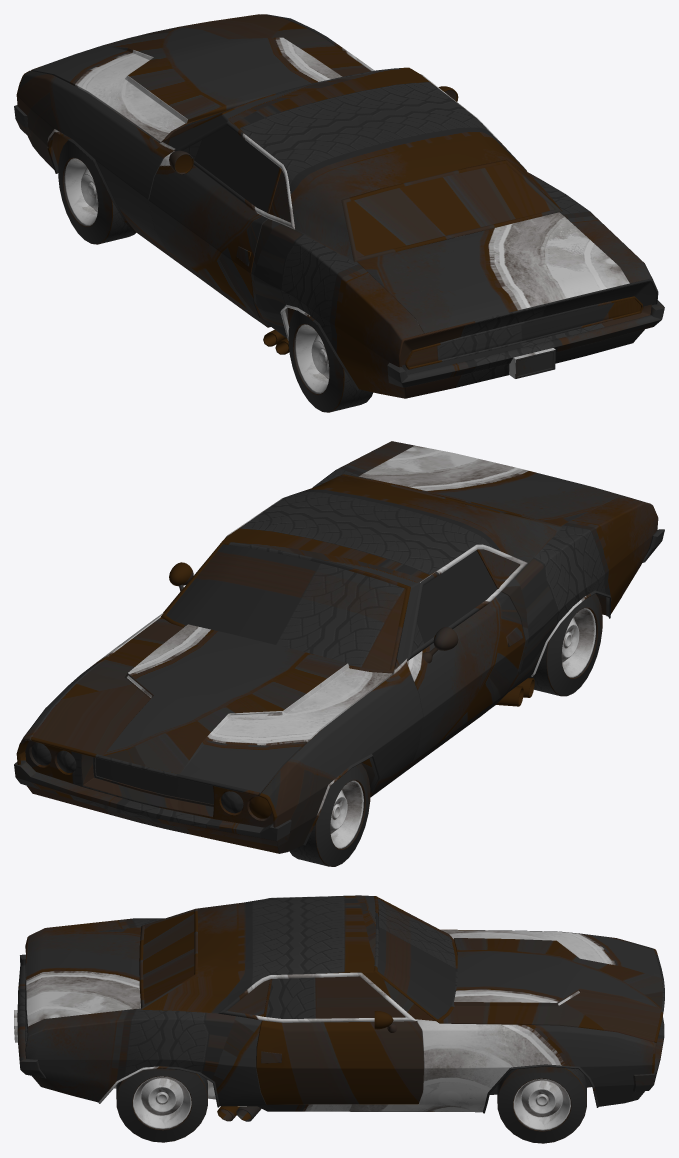
The model's file is Car.fbx.
3 renders of one model, top to bottom at view 1: azimuth 30°, elevation 25°; view 2: azimuth 150°, elevation 25°; view 3: azimuth 270°, elevation 25°, orthographic. The views are drawn at different scales.
Visible parts, largest first — view 1: defaultMaterial.002, defaultMaterial.001, defaultMaterial.006, defaultMaterial.004; view 2: defaultMaterial.002, defaultMaterial.001, defaultMaterial.004, defaultMaterial.006; view 3: defaultMaterial.002, defaultMaterial.001, defaultMaterial.003, defaultMaterial.005.
Boxes of the visible parts, x1,y1,x2,y2 form: defaultMaterial.002: (16,14,658,398); defaultMaterial.001: (14,67,664,387); defaultMaterial.006: (288,310,373,412); defaultMaterial.004: (58,140,135,244); defaultMaterial.002: (16,441,658,853); defaultMaterial.001: (14,474,664,846); defaultMaterial.004: (289,763,370,866); defaultMaterial.006: (529,593,602,696); defaultMaterial.002: (25,895,664,1113); defaultMaterial.001: (14,895,664,1121); defaultMaterial.003: (497,1066,586,1143); defaultMaterial.005: (116,1068,207,1142).
Bounding box in the file's own units: 630 × 424 × 1520.
3 materials, 3 textured.
